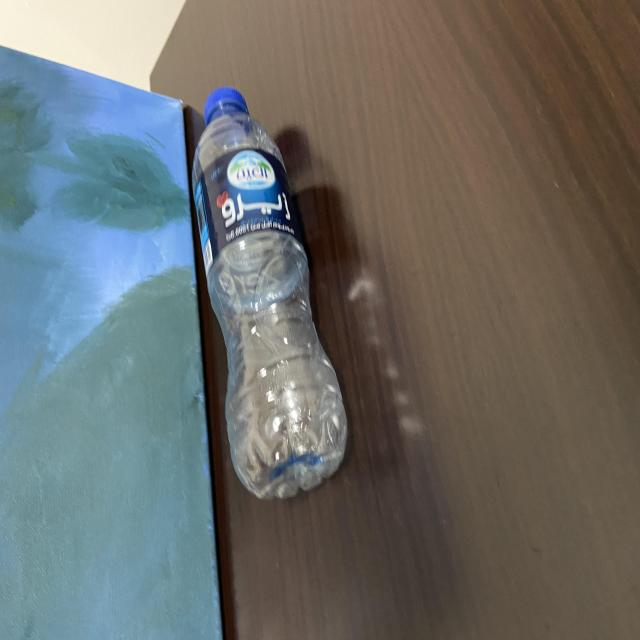plastic: (189, 81, 351, 502)
